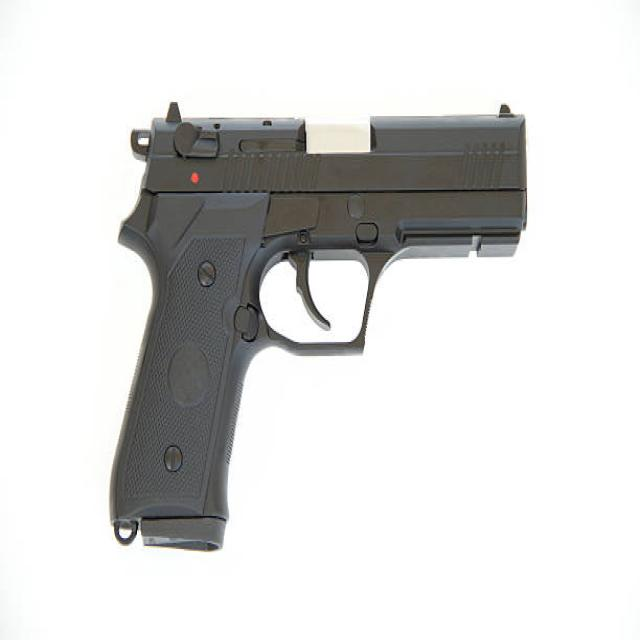pistol: (101, 94, 537, 560)
